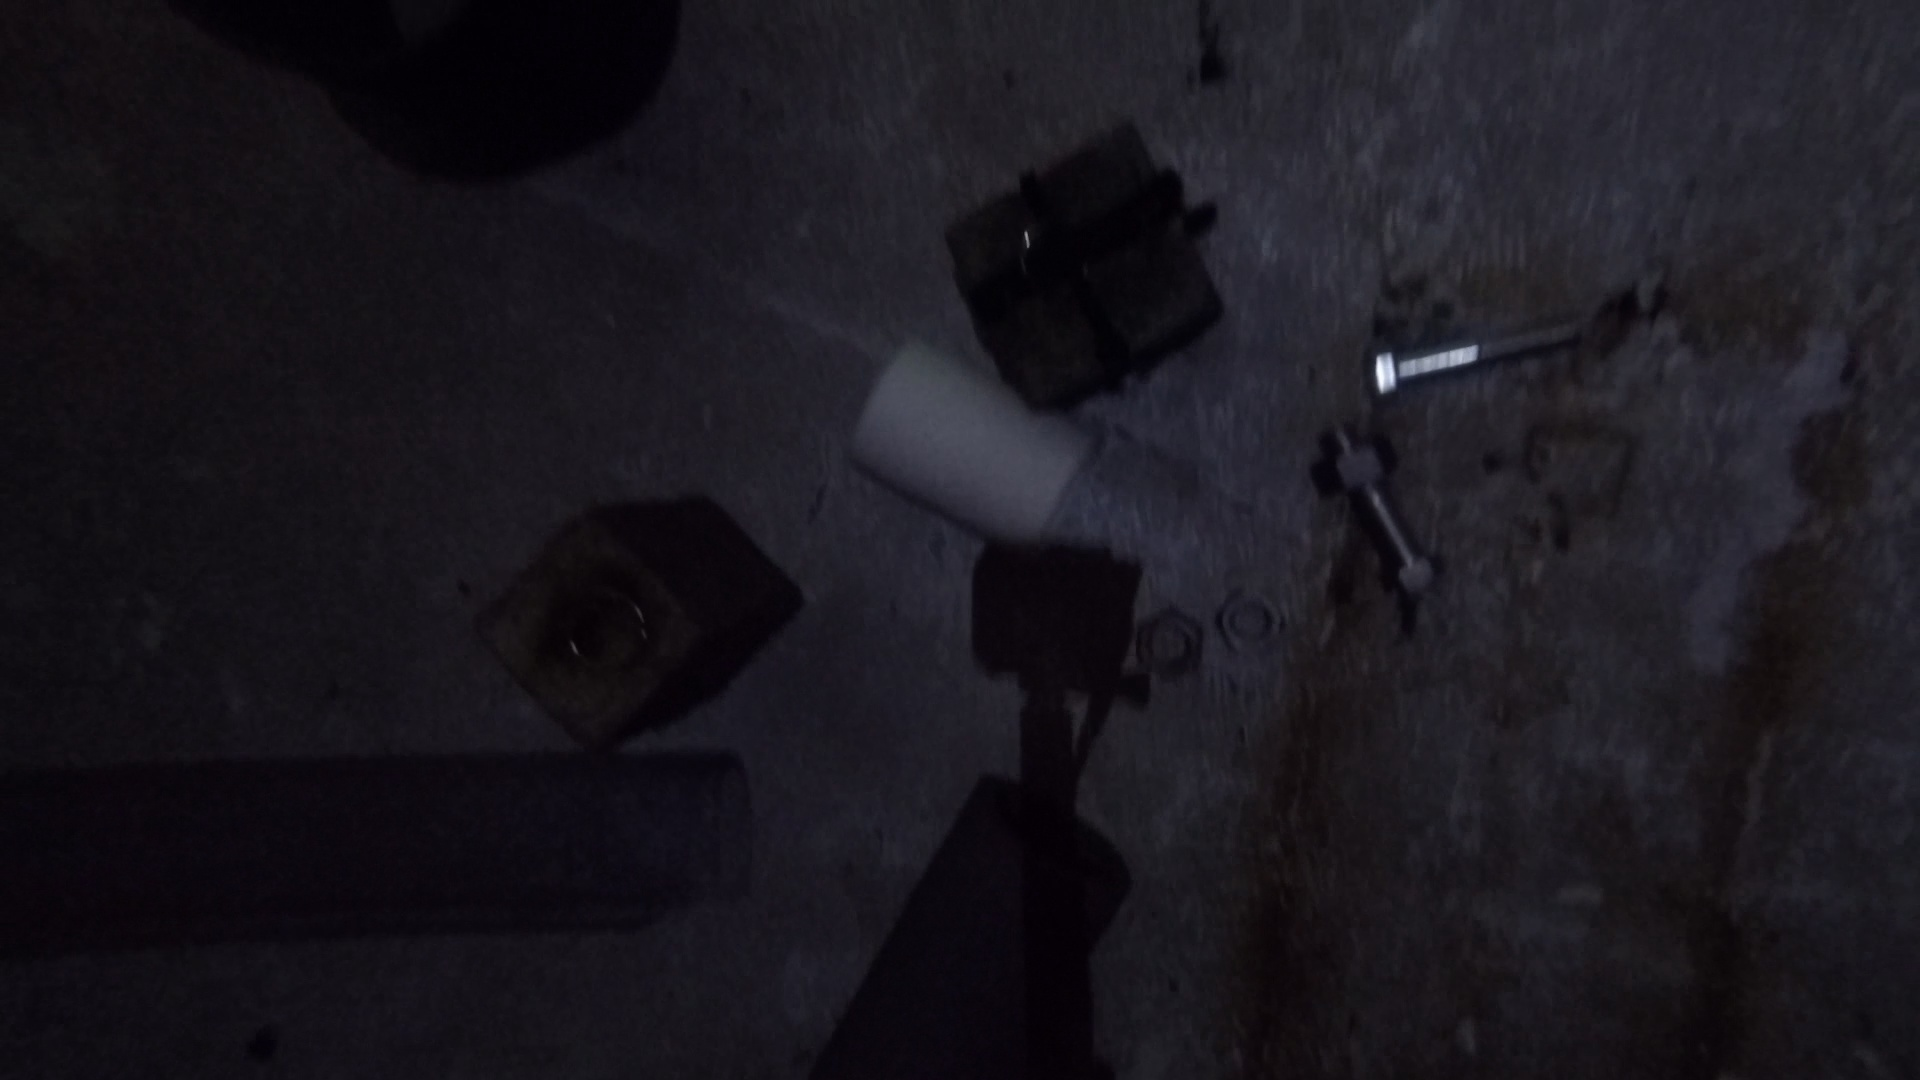bolt: (1329, 418, 1447, 600), (1364, 315, 1584, 409)
led_block: (471, 491, 804, 744), (940, 117, 1222, 415)
nut: (1311, 433, 1396, 498), (1135, 604, 1204, 680), (1215, 585, 1286, 655)
pipe: (1, 746, 756, 964), (811, 777, 1127, 1080), (314, 1, 684, 191), (847, 338, 1100, 555)
